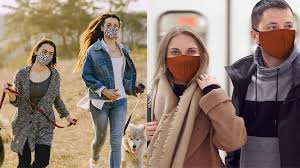with-mask: (244, 1, 300, 62), (156, 24, 206, 84), (27, 39, 61, 68), (94, 13, 124, 41)
